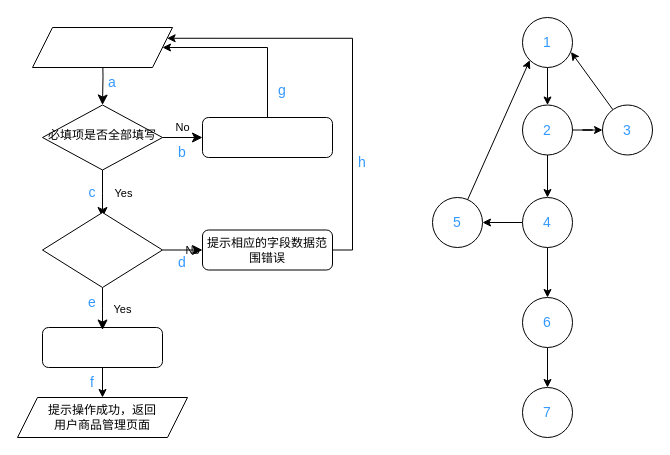
This 670x455 diagram has some shape labels left out. The shapes that lost their labels are listed below. From the top down, each one's centre as x and y in pixels, then its label:
At point (102, 47): "用户填写并提交表单".
At point (267, 137): "提示相应的字段未填写".
At point (102, 250): "数量和价格字段是否符合数据范围".
At point (102, 347): "增加商品数据表中填写该商品信息的记录".
